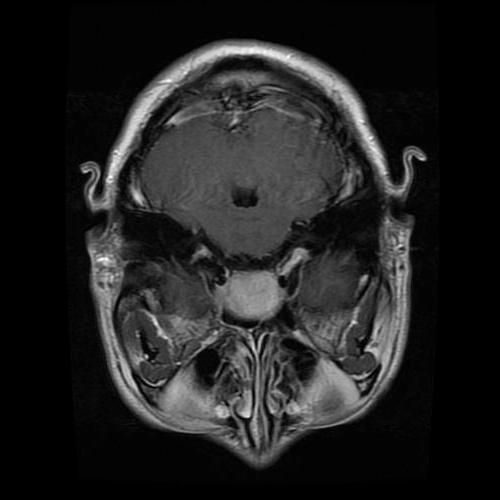Tumour-Pituitary: (212, 262, 291, 323)
